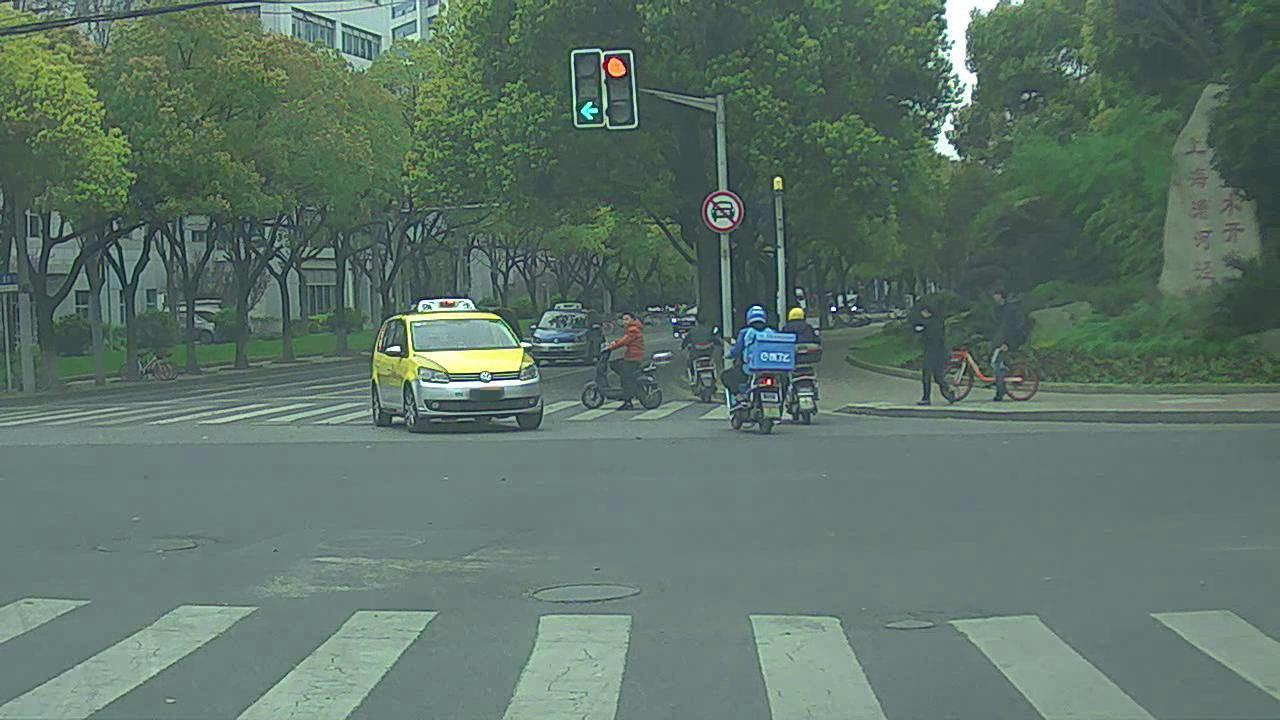traffic_light: (602, 55, 635, 127), (574, 56, 603, 129)
